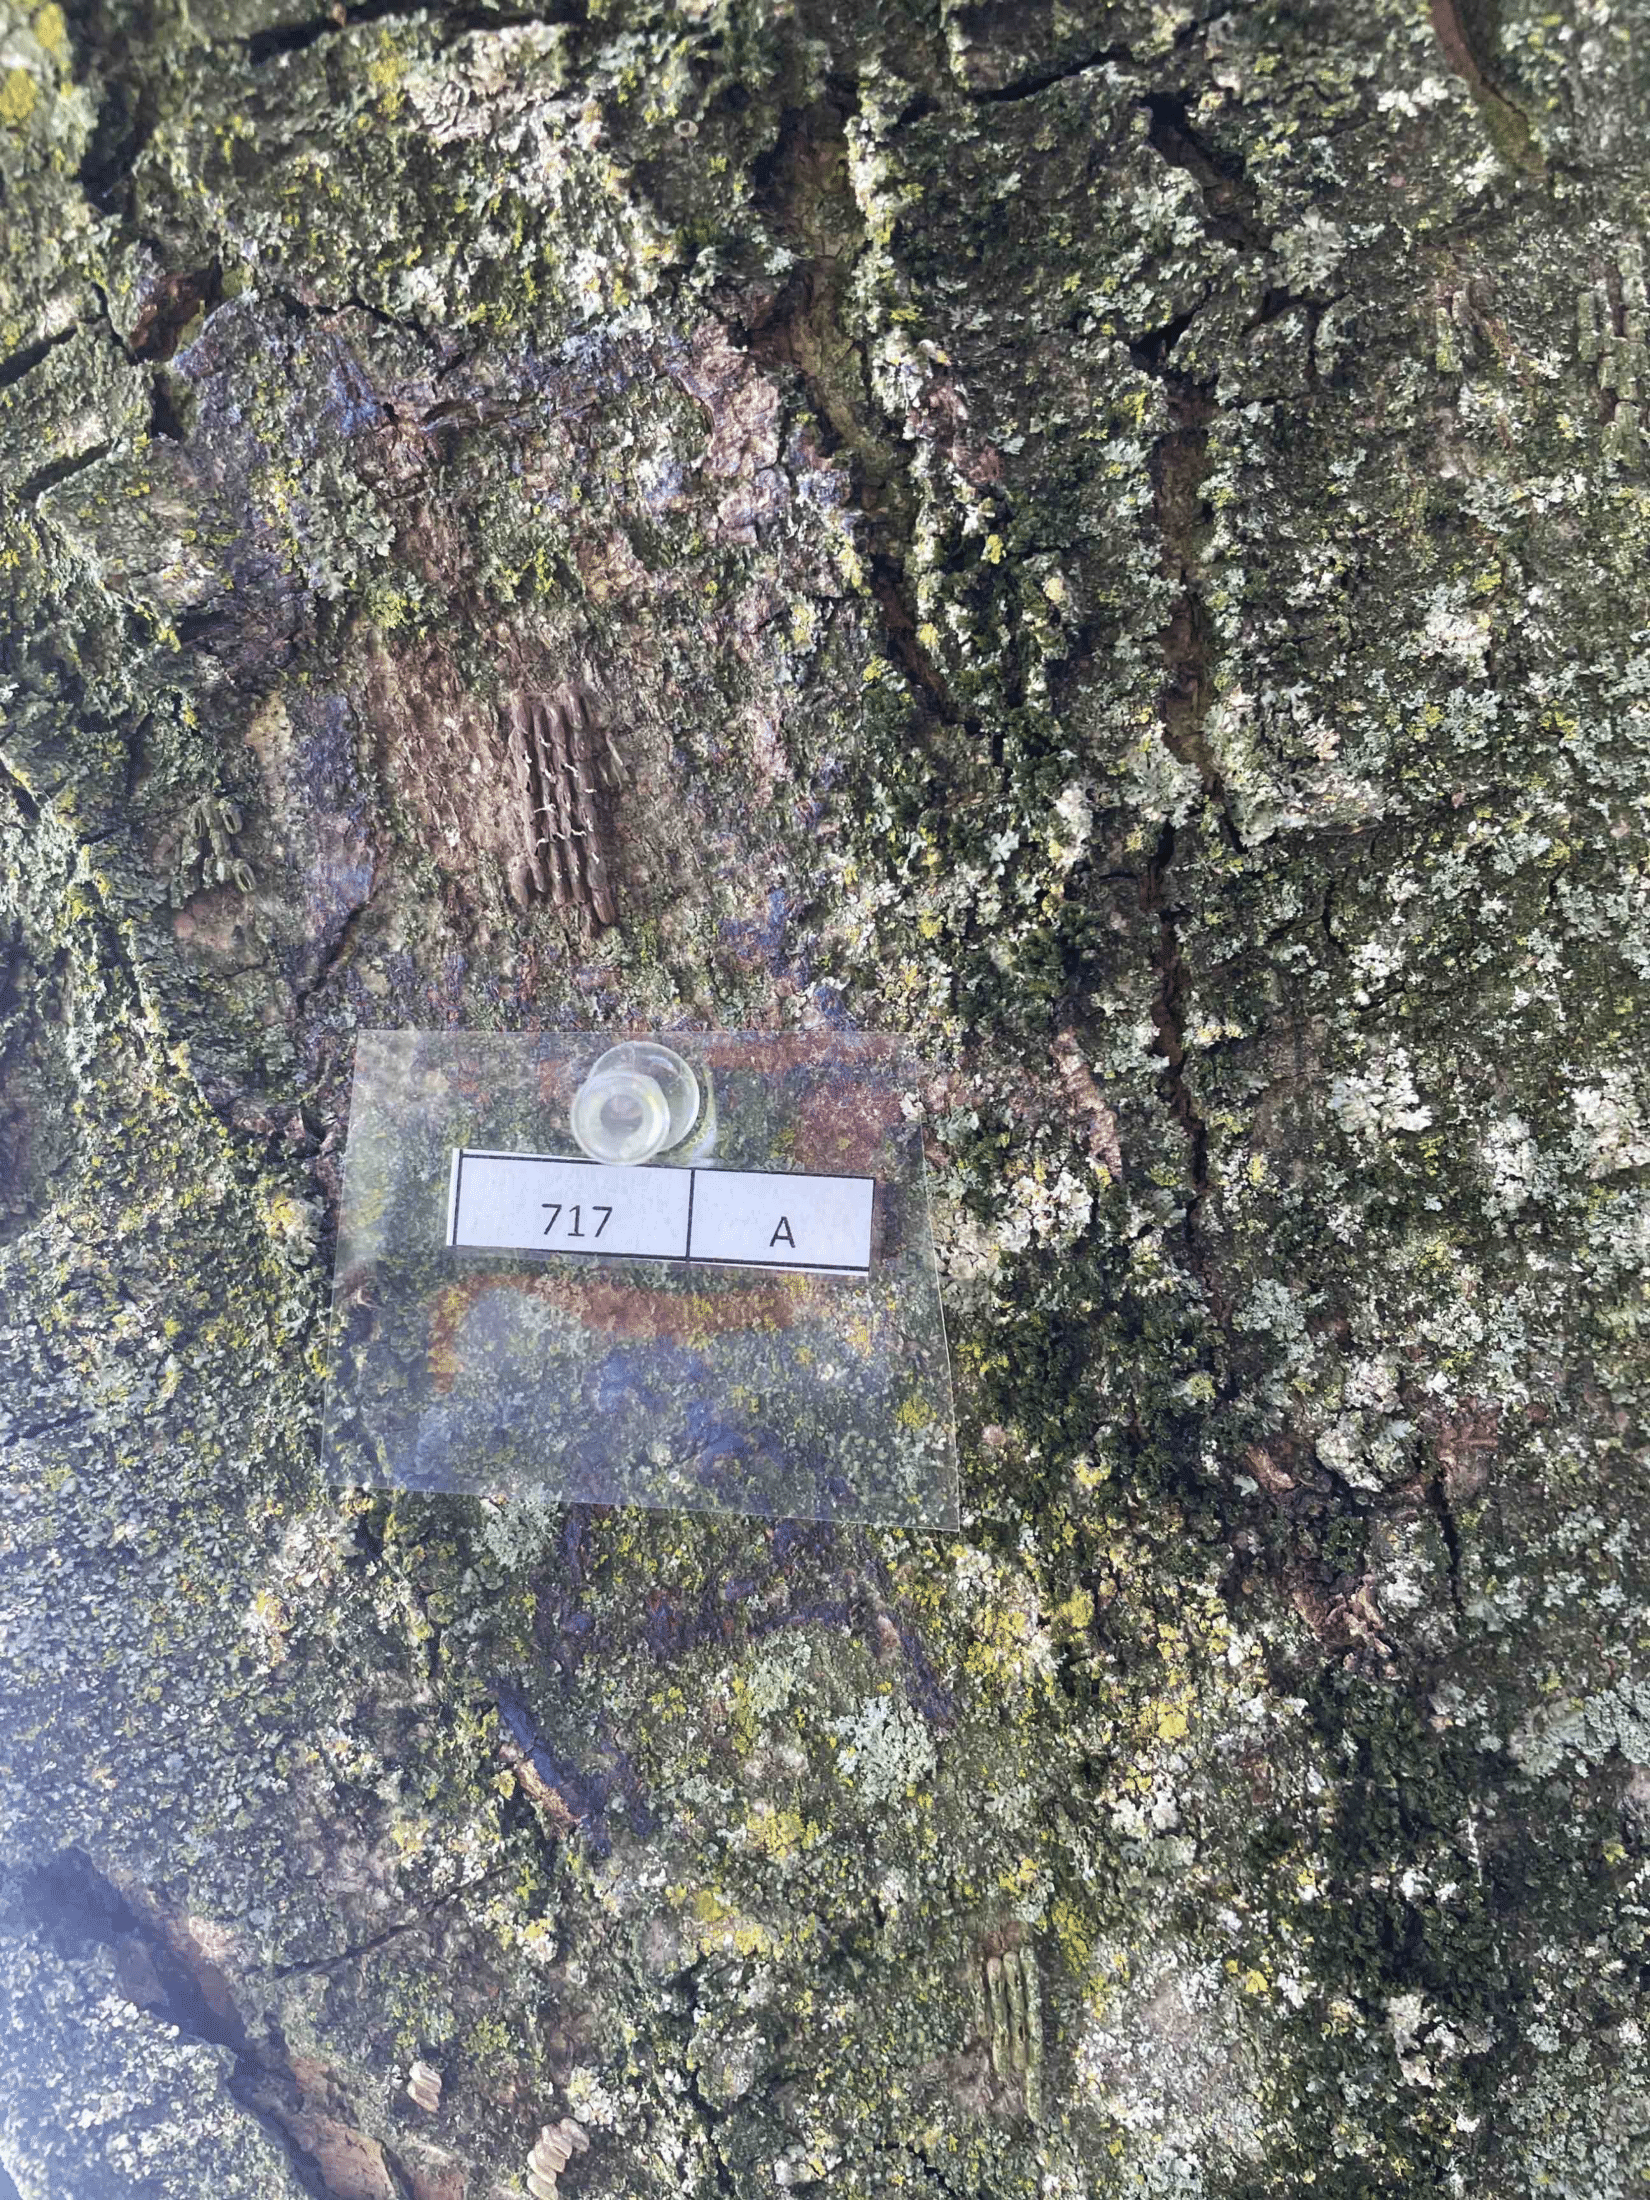egg masses: (477, 670, 626, 946)
